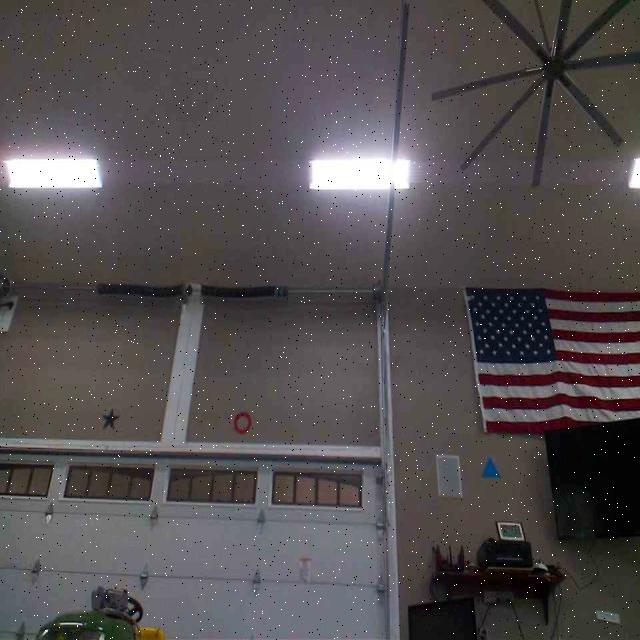ring_red: (234, 411, 252, 434)
triangle_black: (101, 408, 120, 430)
triangle_blue: (479, 456, 499, 478)
